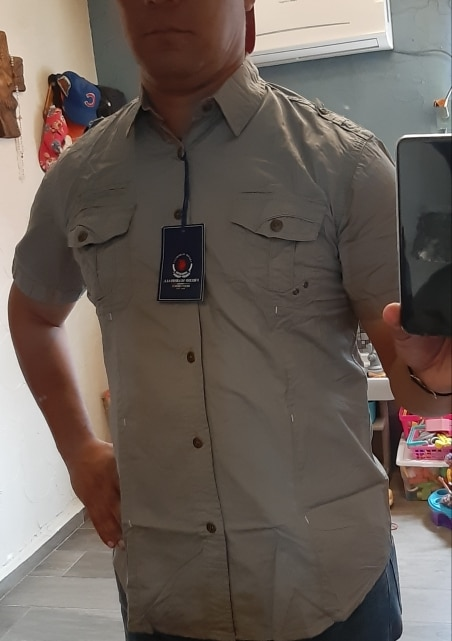shirts: (4, 61, 409, 641)
